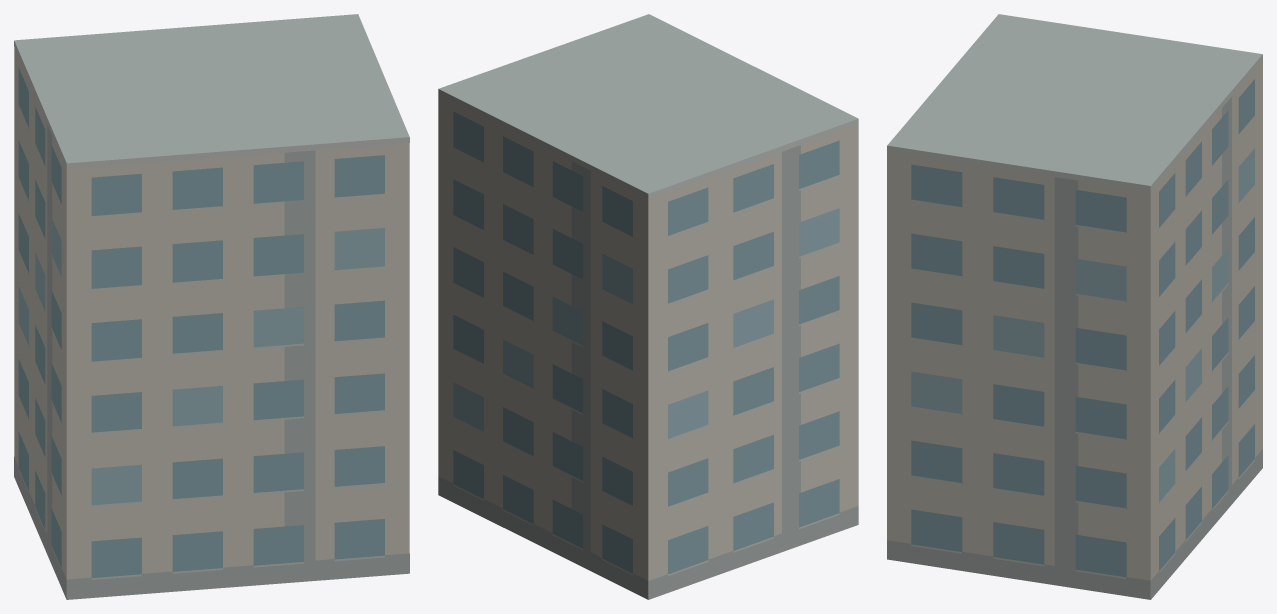
Rendered from survey-upis-32894345.glb.
3 renders of one model, left to right at view 1: azimuth 30°, elevation 25°; view 2: azimuth 150°, elevation 25°; view 3: azimuth 270°, elevation 25°, orthographic. The views are drawn at different scales.
Visible parts, largest first — view 1: survey-upis-32894345.tmp; view 2: survey-upis-32894345.tmp; view 3: survey-upis-32894345.tmp.
Part boxes in pixels (x1=…): survey-upis-32894345.tmp: x1=14, y1=14, x2=409, y2=599; survey-upis-32894345.tmp: x1=438, y1=14, x2=858, y2=599; survey-upis-32894345.tmp: x1=887, y1=14, x2=1262, y2=599.
Size of the model in its own units: 15.69 by 17.6 by 14.49.
